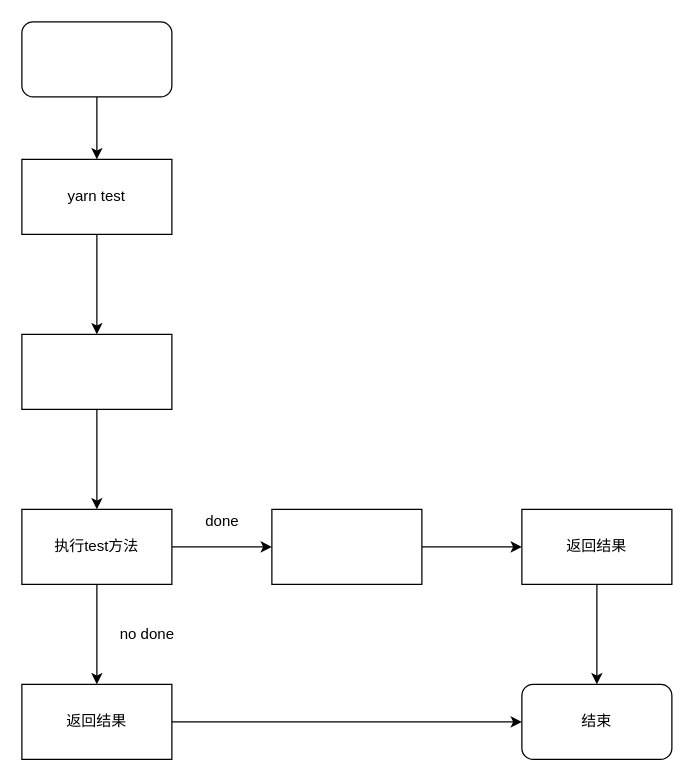
Some shapes in this 694 by 781 pixel diagram are drawn without their labels. Each missing label, with the centre of its shape:
jest运行测试代码: point (96, 371)
开始: point (96, 59)
执行异步代码: point (346, 546)
